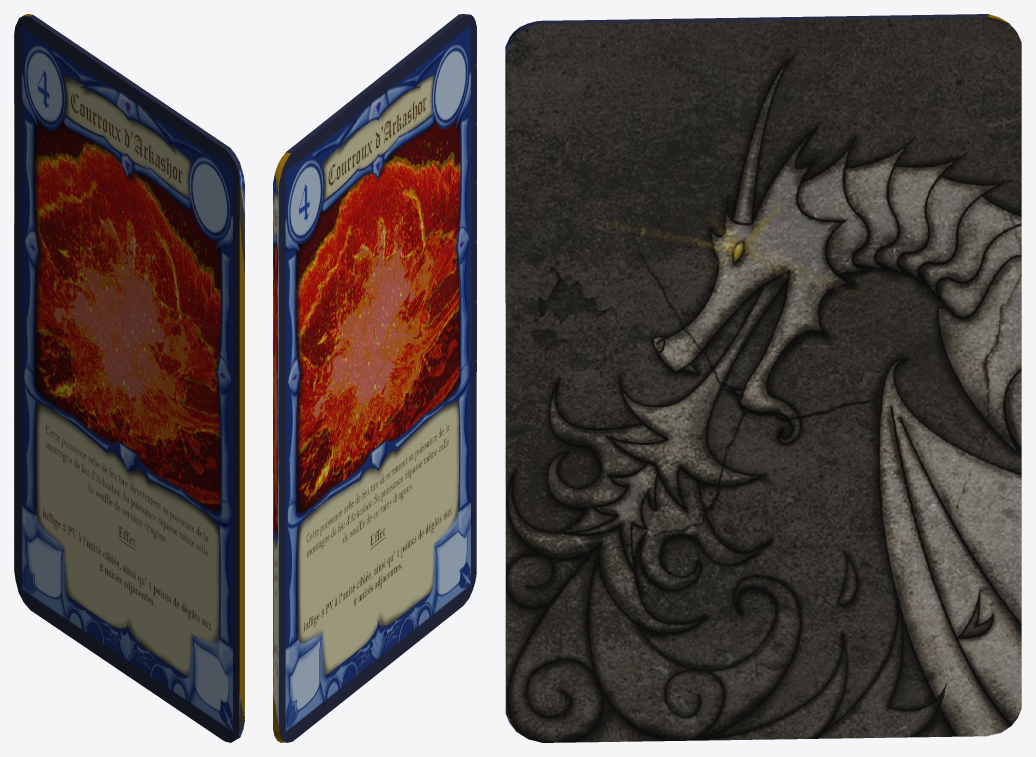
The model's file is Courroux_d_arckachor.fbx.
3 views of the same model, side by side, from view 1: azimuth 30°, elevation 25°; view 2: azimuth 150°, elevation 25°; view 3: azimuth 270°, elevation 25° (orthographic). The views are drawn at different scales.
Visible parts, largest first — view 1: COURROUX_DARKASHOR:pPlane3; view 2: COURROUX_DARKASHOR:pPlane3; view 3: COURROUX_DARKASHOR:pPlane3.
Boxes of the visible parts, left/top/right/bottom form: COURROUX_DARKASHOR:pPlane3: left=14, top=14, right=244, bottom=742; COURROUX_DARKASHOR:pPlane3: left=273, top=14, right=476, bottom=742; COURROUX_DARKASHOR:pPlane3: left=505, top=14, right=1021, bottom=742.
Size of the model in its own units: 0.1625 by 4.99 by 3.24.
Materials: 3 (2 with a texture image).
